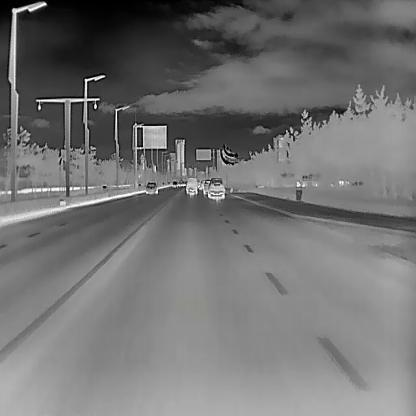car: (207, 177, 226, 199), (185, 177, 198, 193), (144, 182, 158, 194), (200, 178, 211, 193)
